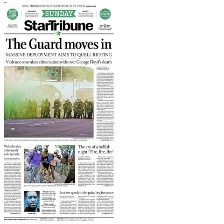news_paper: (1, 1, 115, 223)
